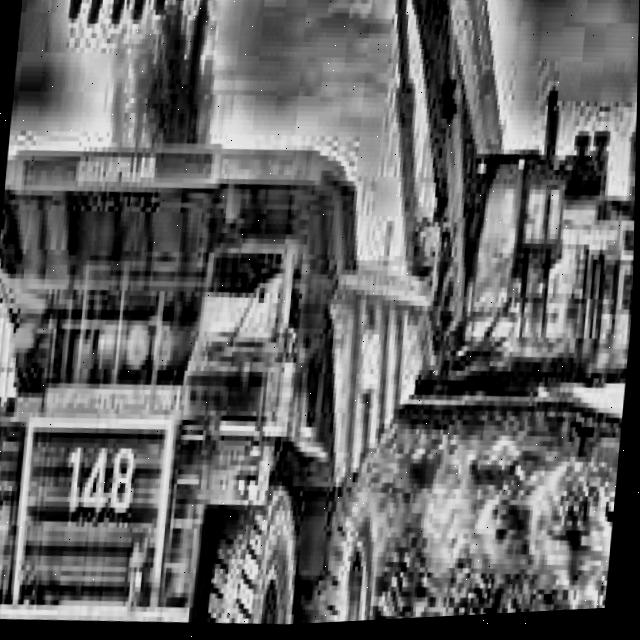dump_truck: (0, 83, 448, 640)
excavator: (40, 0, 640, 493)
